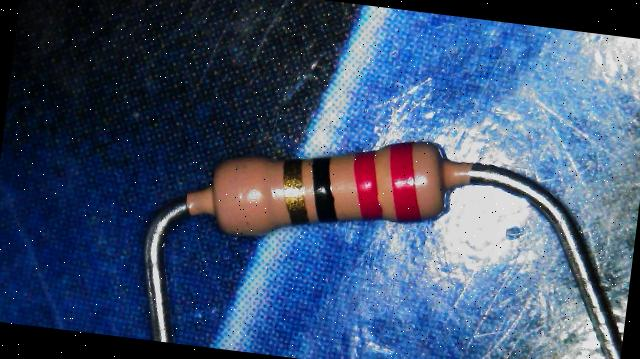black: (306, 156, 344, 223)
gold: (278, 158, 314, 223)
red: (382, 140, 429, 222), (348, 149, 389, 220)
resistor: (178, 92, 482, 286)
